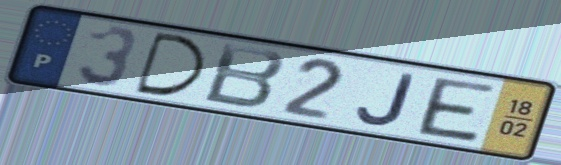2: (277, 57, 347, 123)
3: (76, 24, 137, 90)
B: (199, 40, 290, 111)
D: (131, 29, 209, 99)
E: (415, 75, 500, 145)
J: (353, 70, 419, 128)
